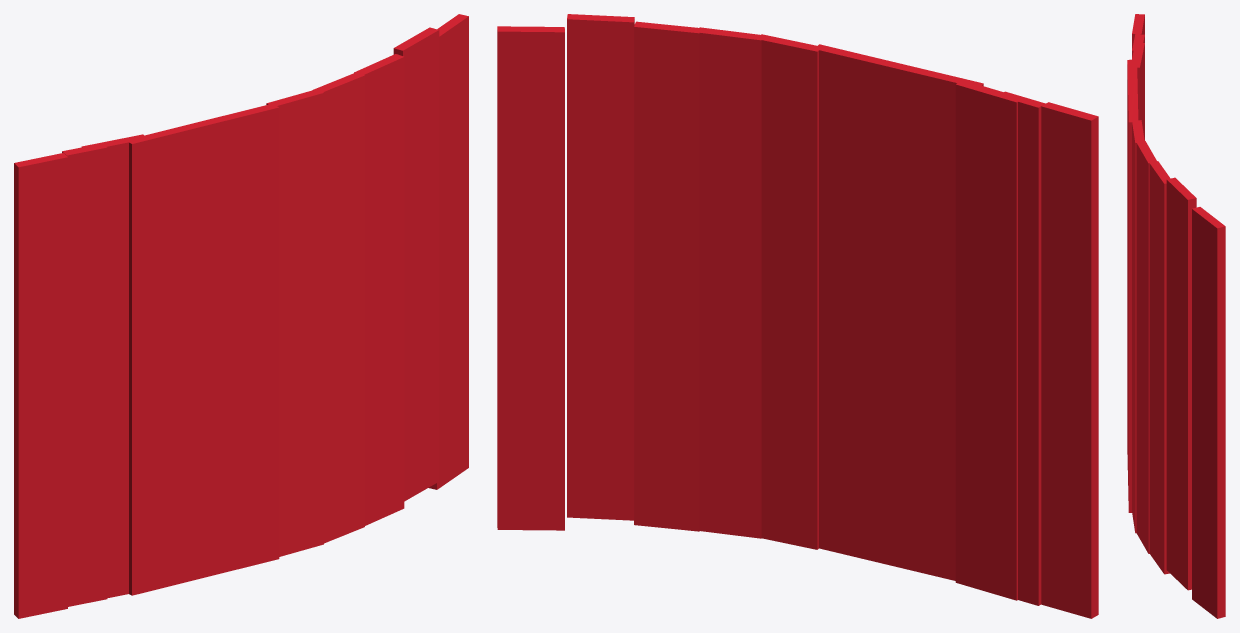
File: tinker.obj
3 views of the same model, side by side, from view 1: azimuth 30°, elevation 25°; view 2: azimuth 150°, elevation 25°; view 3: azimuth 270°, elevation 25° (orthographic). The views are drawn at different scales.
Visible parts, largest first — view 1: obj_0; view 2: obj_0; view 3: obj_0.
Boxes of the visible parts, box(x1,y1,x2,y2) form: obj_0: box(14, 14, 468, 618); obj_0: box(497, 14, 1098, 618); obj_0: box(1127, 14, 1225, 618).
Size of the model in its own units: 103 by 91 by 20.28.
